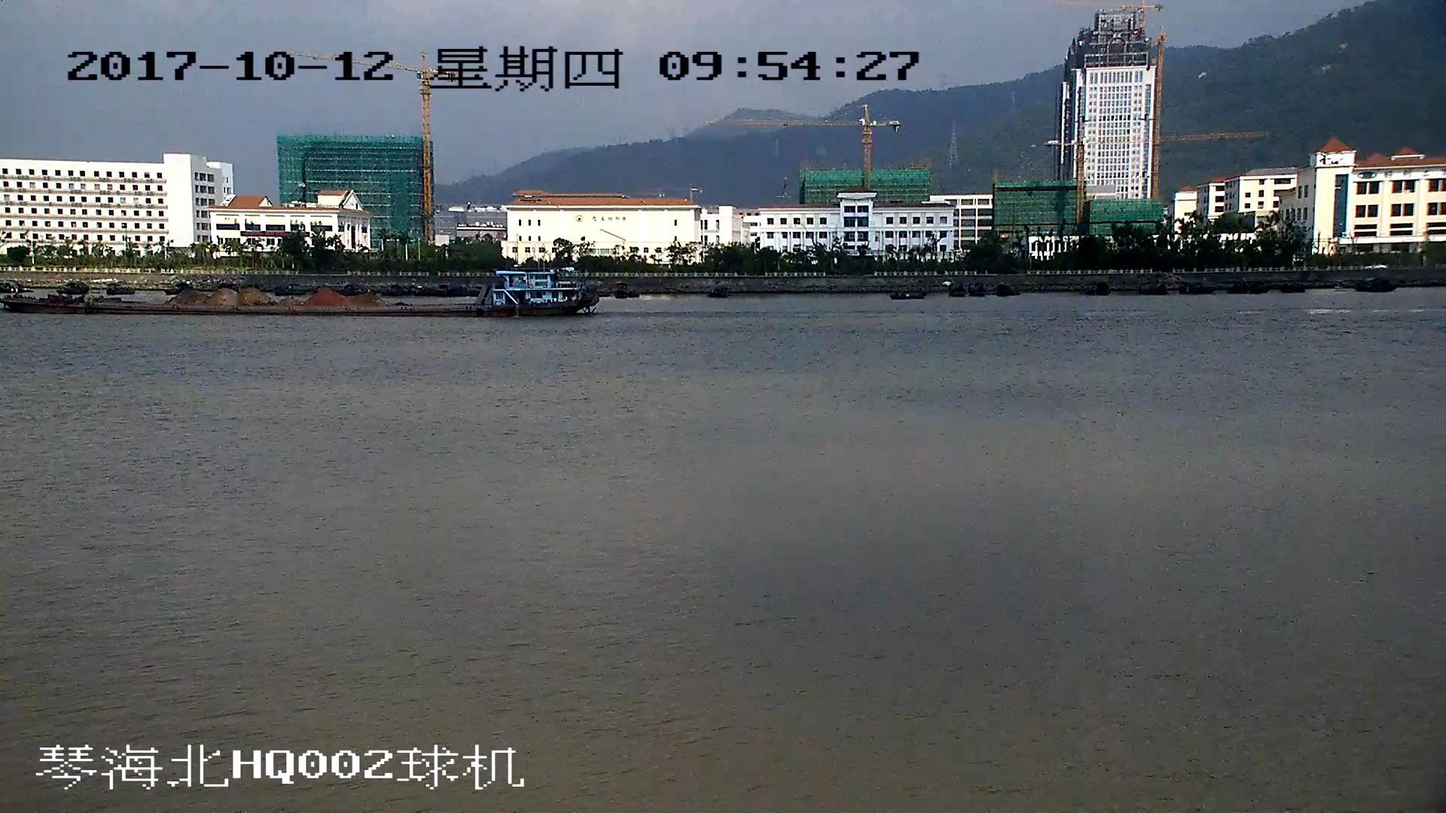ore carrier: (0, 265, 598, 315)
